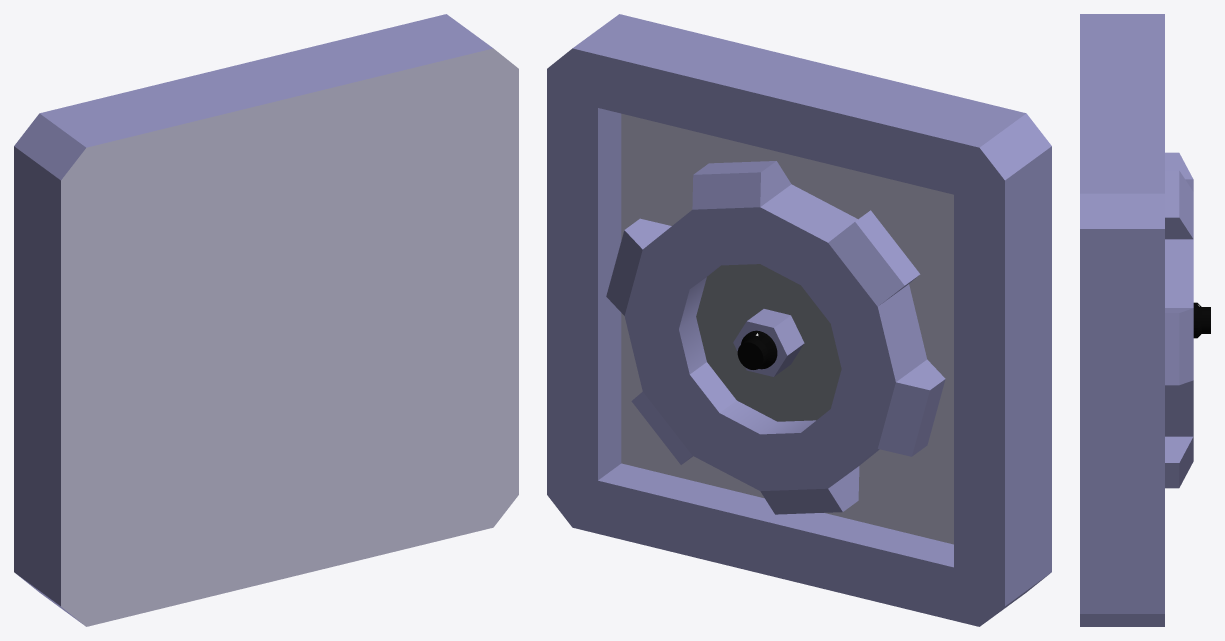
File: safe_lock.fbx
3 views of the same model, side by side, from view 1: azimuth 30°, elevation 25°; view 2: azimuth 150°, elevation 25°; view 3: azimuth 270°, elevation 25° (orthographic). The views are drawn at different scales.
Parts seen in each view (by area): view 1: roof_flatSingle; view 2: roof_flatSingle, cog_smallEdgeClosed, Cylinder; view 3: roof_flatSingle, cog_smallEdgeClosed, Cylinder.
Boxes of the visible parts, bbox=[...] form: roof_flatSingle: bbox=[14, 14, 518, 626]; roof_flatSingle: bbox=[547, 14, 1051, 626]; cog_smallEdgeClosed: bbox=[606, 161, 945, 514]; Cylinder: bbox=[737, 330, 777, 369]; roof_flatSingle: bbox=[1080, 14, 1164, 626]; cog_smallEdgeClosed: bbox=[1165, 152, 1193, 488]; Cylinder: bbox=[1193, 302, 1210, 338].
Size of the model in its own units: 33.27 by 33.27 by 9.11.
5 materials, 1 textured.
